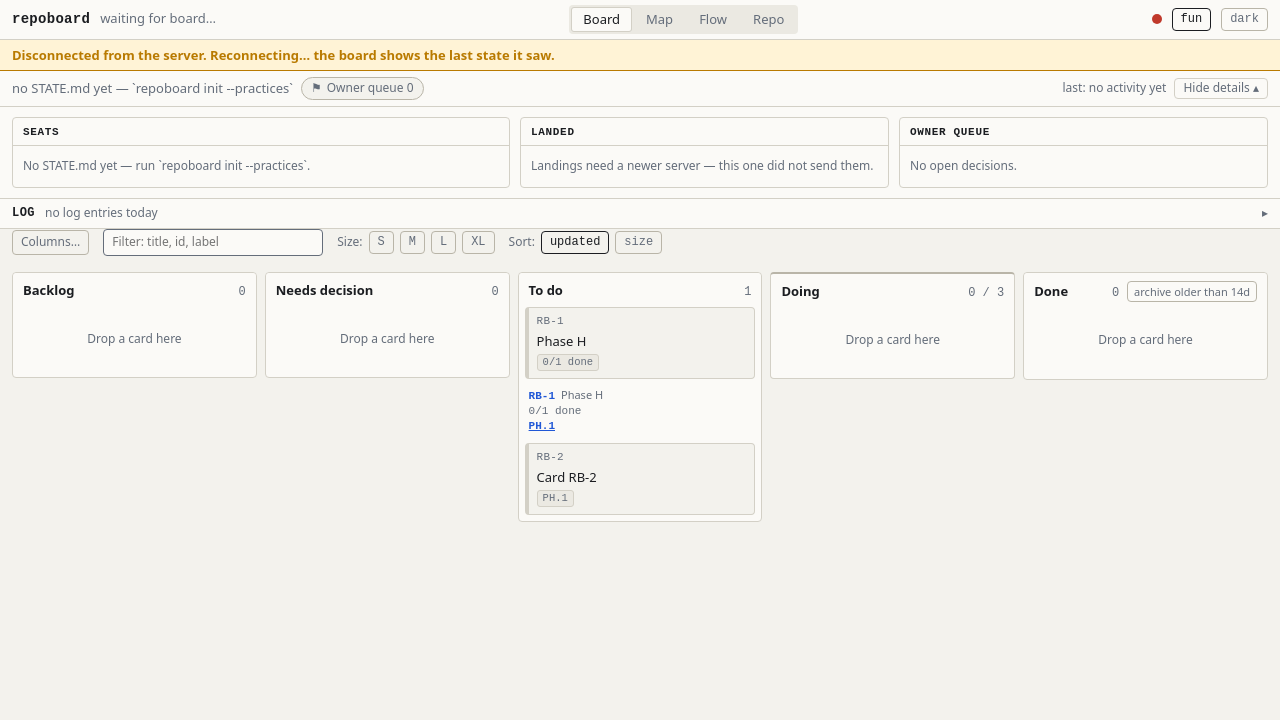
Board swimlanes › renders a lane head naming the parent and its rollup, and opens the parent on click
Expected: the element with test id "lane-RB-1" shows "Phase H", [561, 386, 603, 402]
Expected: the element with test id "lane-RB-1" shows "0/1 done", [529, 386, 603, 432]
Click the 2nd button "RB-1".
click(542, 396)  # box [529, 388, 555, 404]
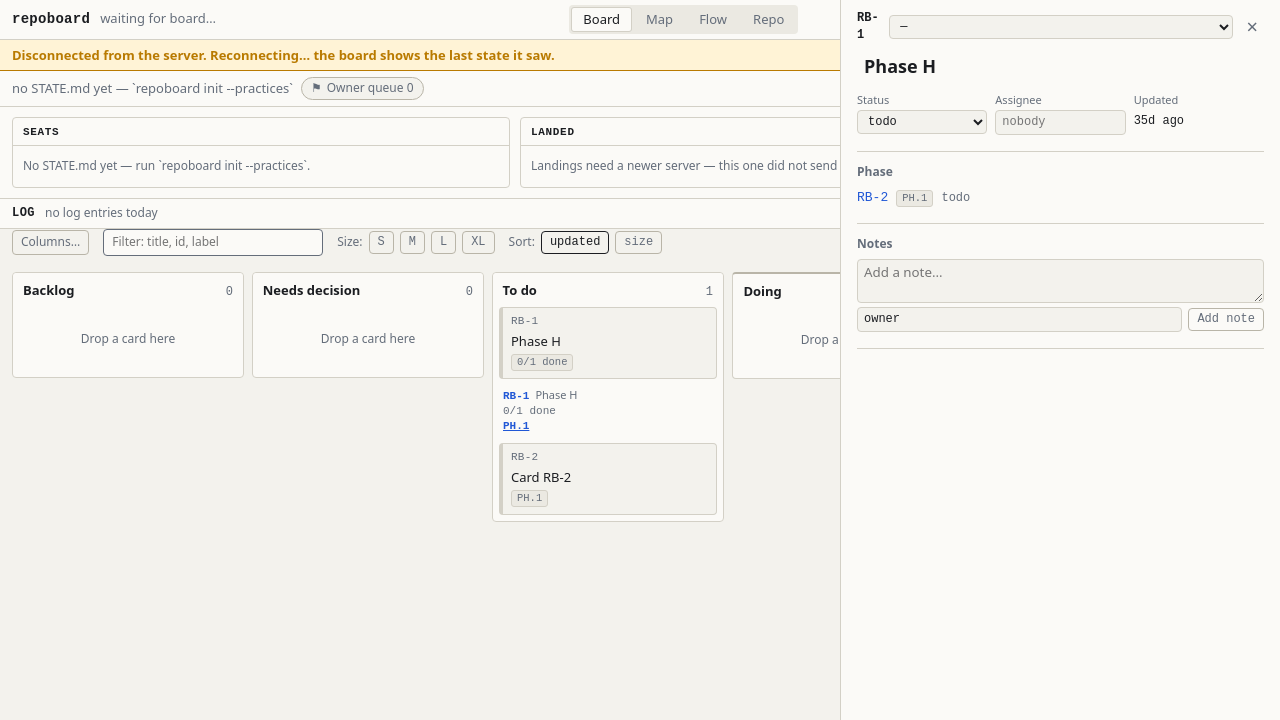
Now the text "RB-1" is shown, box [857, 10, 881, 44]
